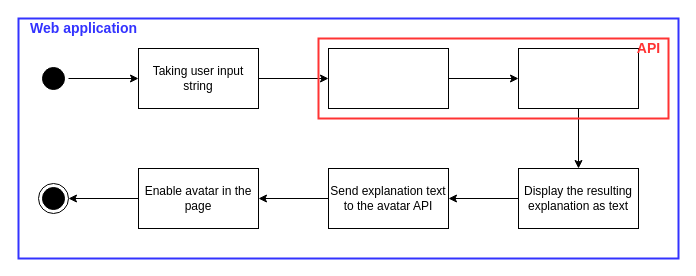
Some shapes in this 696 by 276 pixel diagram are drawn without their labels. Each missing label, with the centre of its shape:
Use Text Mining to extract relevant information: (x=388, y=78)
Verify how many words are present in the avatar DB: (x=578, y=78)
